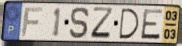1: (52, 7, 62, 39)
D: (118, 7, 141, 41)
E: (139, 8, 164, 41)
F: (20, 7, 45, 38)
S: (68, 6, 91, 40)
Z: (90, 7, 115, 41)
